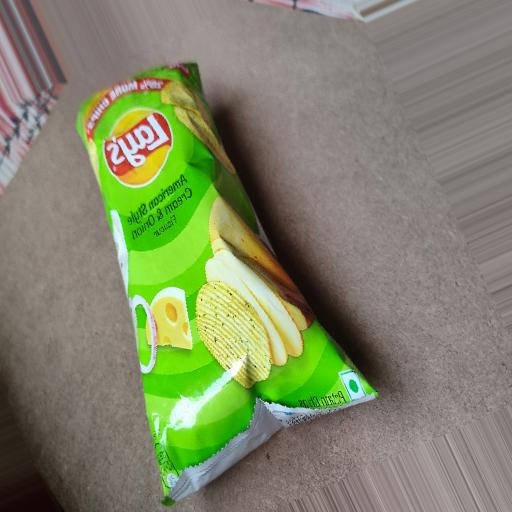Lays Green Small pack (American style cream and onion): (67, 65, 381, 497)
